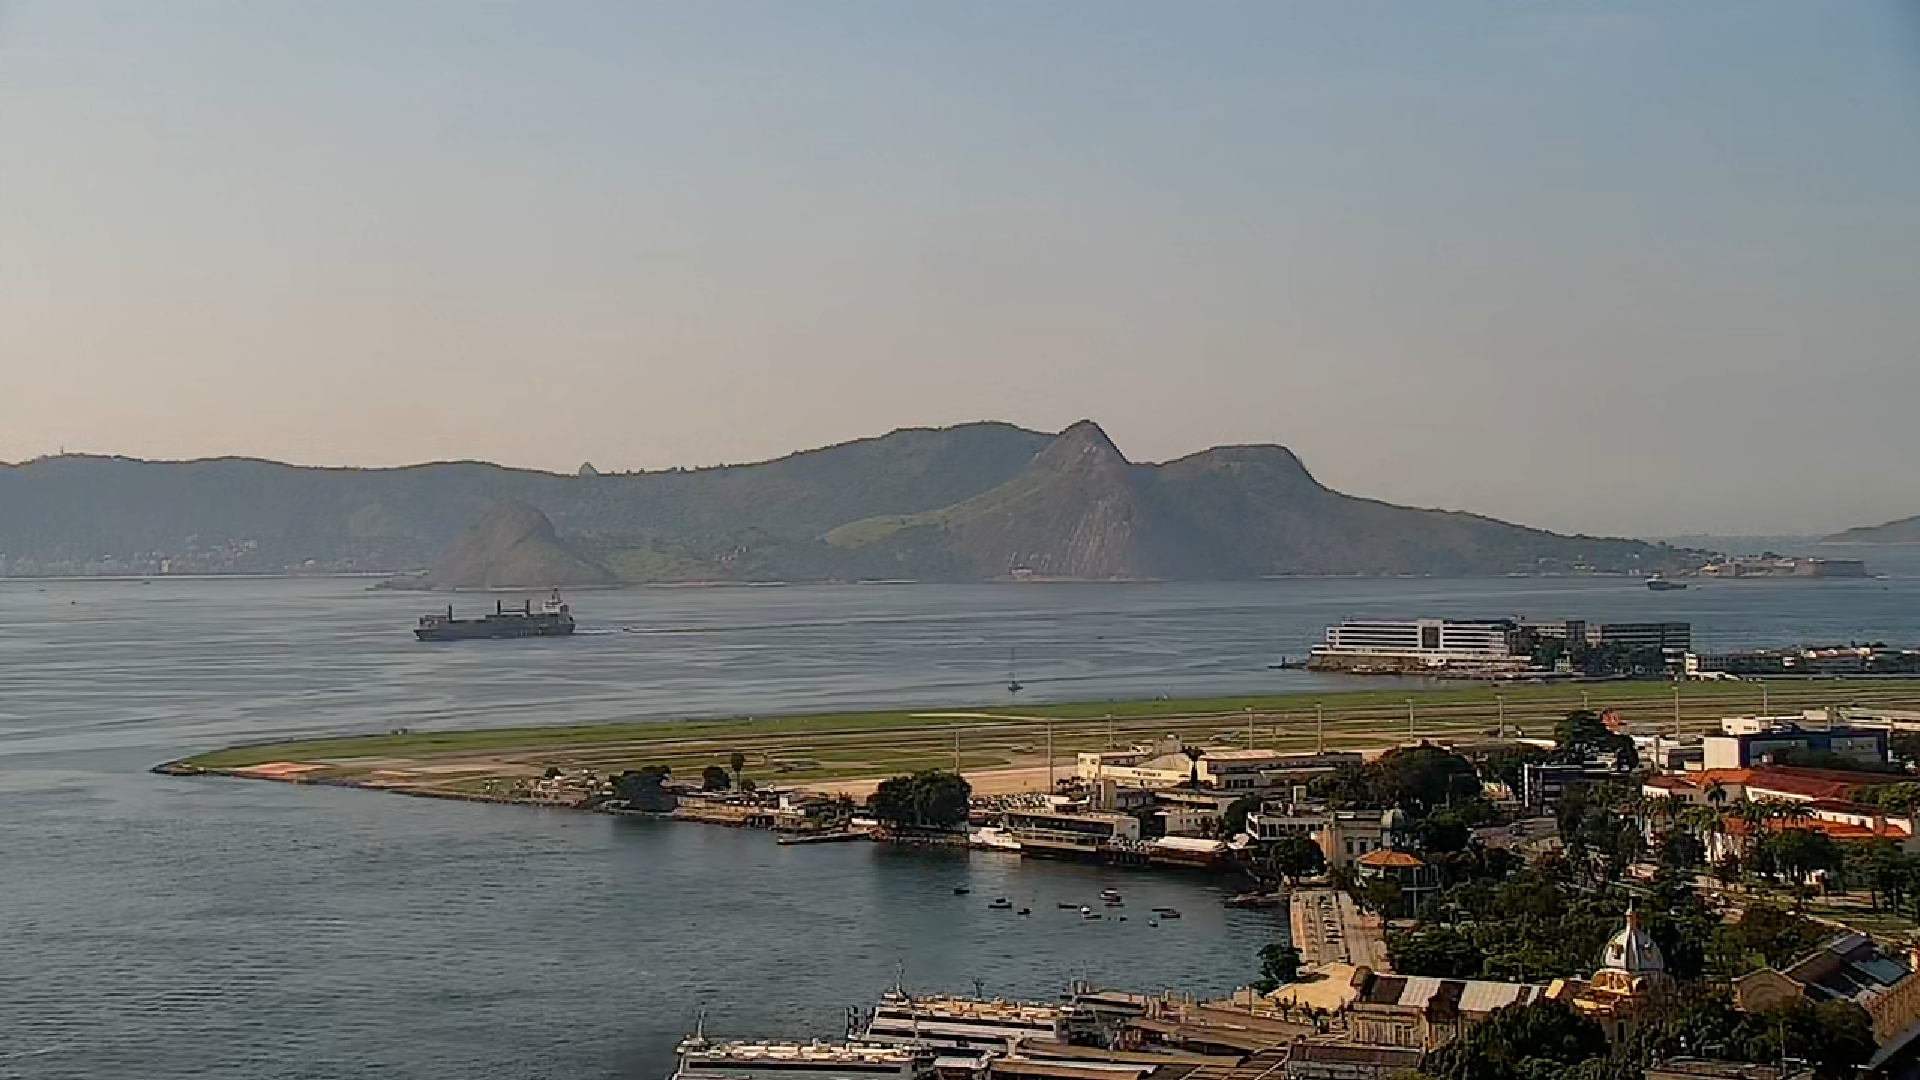Ship2: (410, 585, 582, 645)
Ship3: (1004, 645, 1029, 695)
Ship5: (1640, 570, 1693, 595)
Ship7: (984, 894, 1014, 911), (1054, 894, 1081, 911), (1155, 909, 1183, 920), (1098, 886, 1122, 899), (953, 882, 971, 895), (1015, 906, 1033, 916), (1077, 901, 1091, 913)
